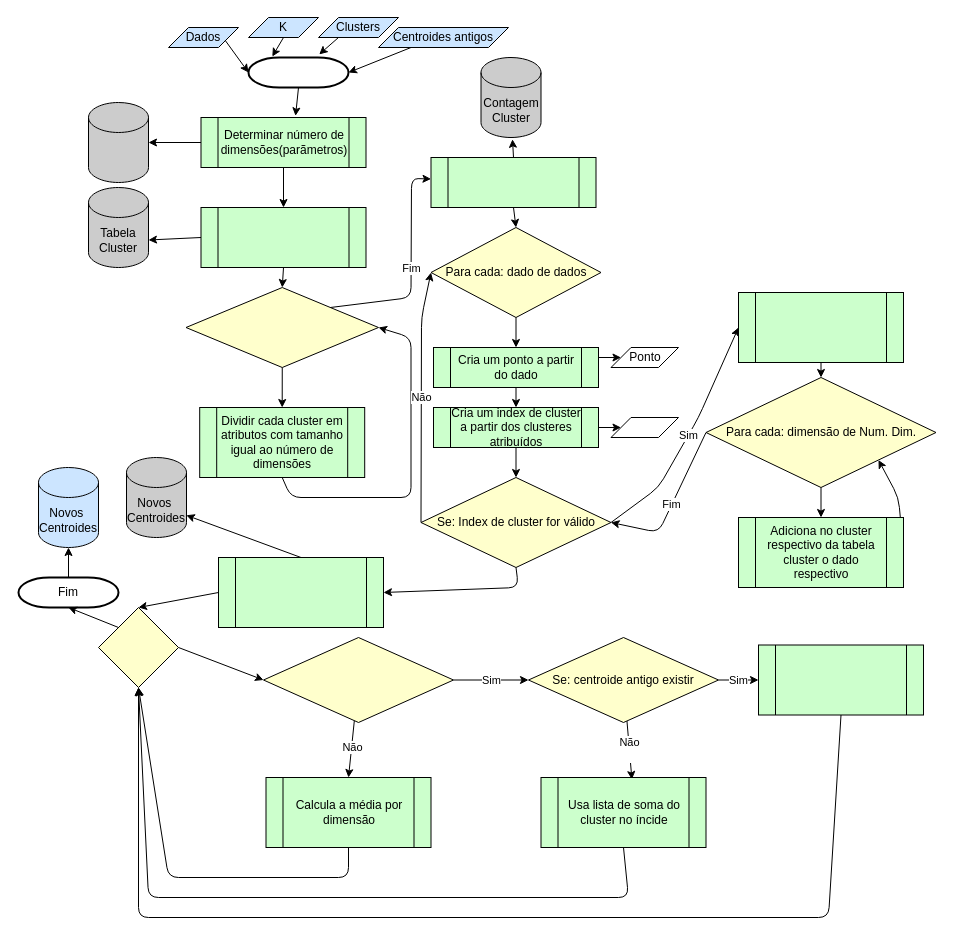
Some shapes in this 953 by 943 pixel diagram are drawn without their labels. Here are the shapes that lost their labels. From the top down, the centre of each, then its label:
point 298,72: Começo
point 118,142: Num. Dim.
point 513,182: Criar uma lista de contagem dos clusters
point 283,237: Criar uma lista dos clusters de tamanho k para somar os parâmetros
point 281,327: Para cada: cluster de Tabela Cluster
point 821,327: +1 no respectivo cluster na lista de contagem de clusters
point 644,427: Index
point 301,592: Cria uma lista para os novos centroides
point 138,647: Para cada: Índice de k
point 358,679: Se: lista de contagem de cluster no índice indicado = 0
point 841,679: Reaproveita
